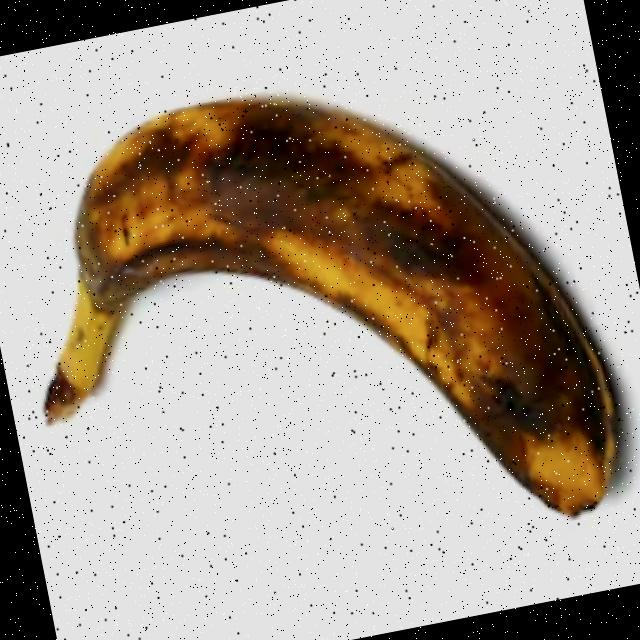overripe: (0, 36, 637, 619)
